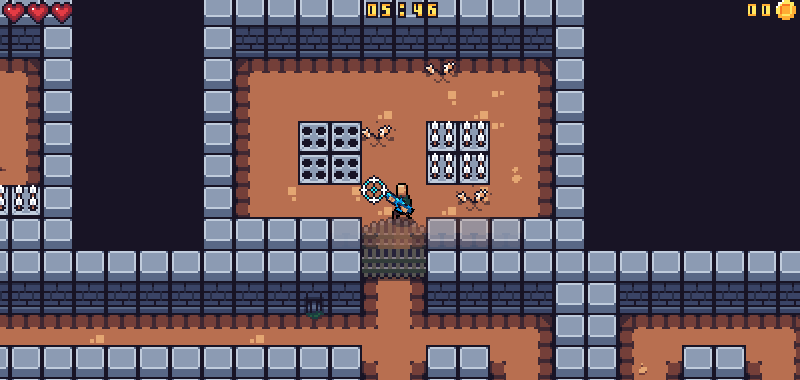trap_door: (357, 213, 430, 284)
trap_off: (296, 120, 363, 185)
trap_on: (425, 120, 490, 185), (1, 184, 43, 217)
